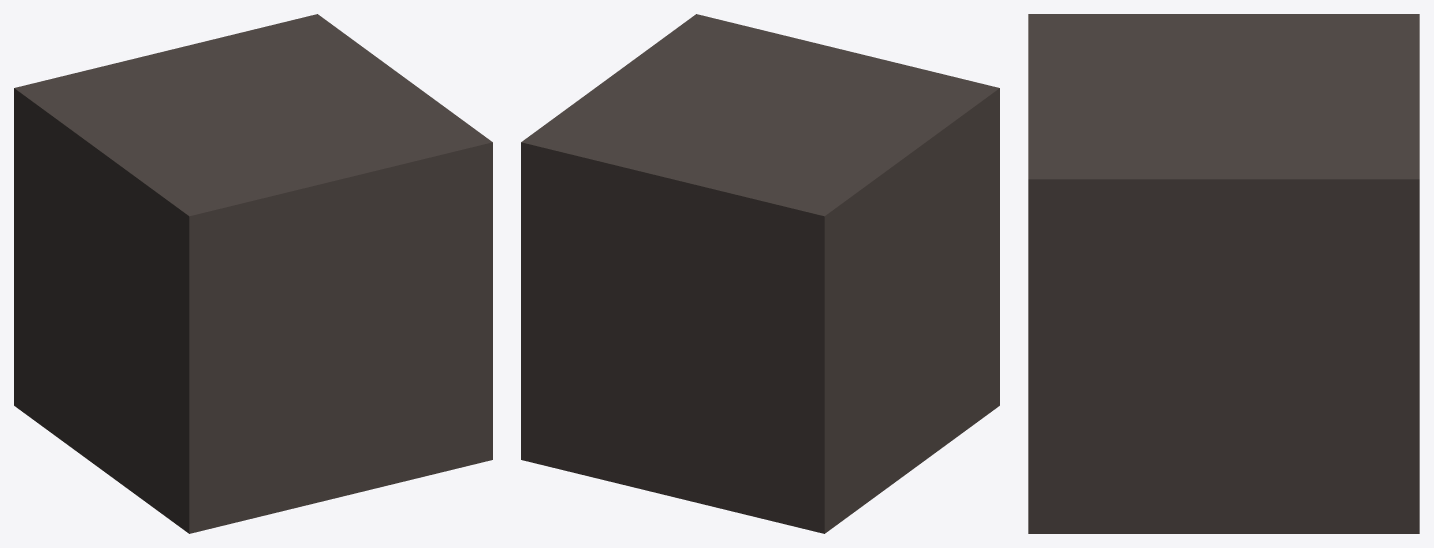
Rendered from Key44.obj.
The picture shows the model from 3 angles, left to right: view 1: azimuth 30°, elevation 25°; view 2: azimuth 150°, elevation 25°; view 3: azimuth 270°, elevation 25°; orthographic projection. The views are drawn at different scales.
Parts seen in each view (by area): view 1: Key44; view 2: Key44; view 3: Key44.
Part boxes in pixels (x1,y1,x2,y2): Key44: (14, 14, 492, 533); Key44: (521, 14, 999, 533); Key44: (1028, 14, 1419, 533).
Size of the model in its own units: 4 by 4 by 4.
Materials: 1 (1 with a texture image).
